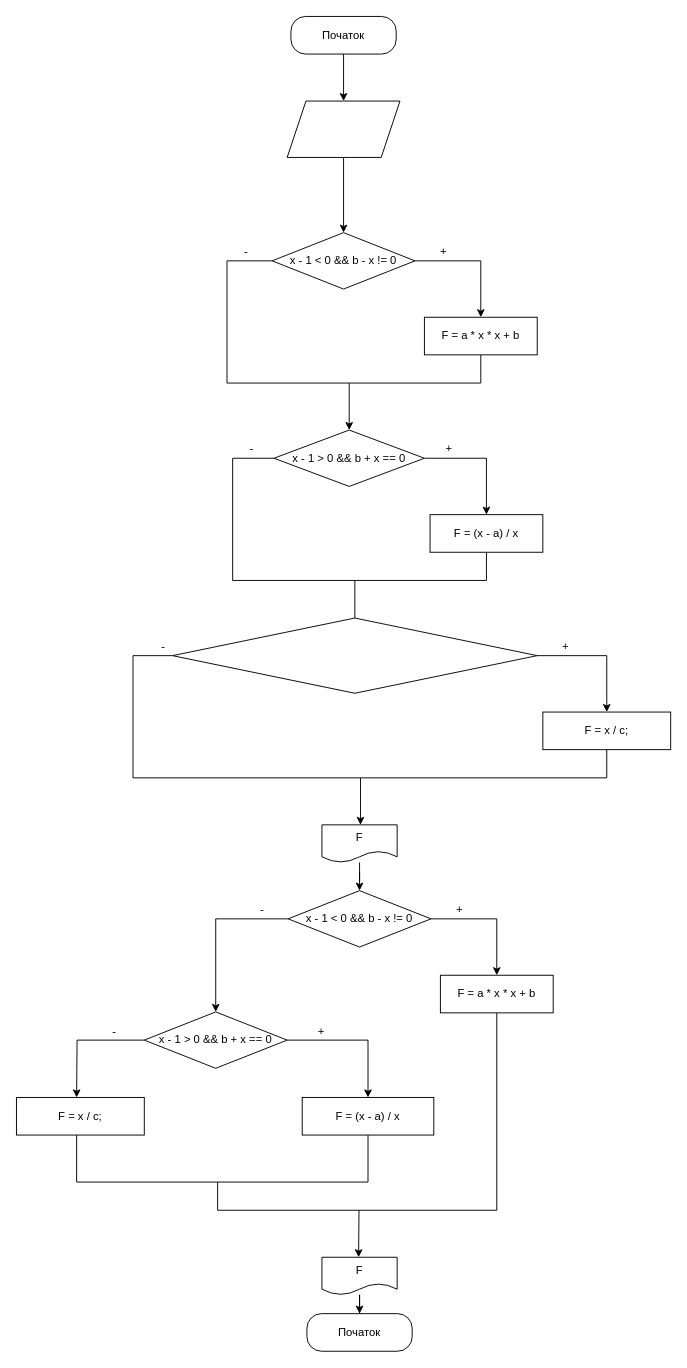
Image size: 687x1368. Some labels were removed from this diagram. The centre of each missing label's shape, as x and y in pixels:
"!(x - 1 < 0 && b - x != 0) && !(x - 1 > 0 && b + x == 0)" belongs at point 354,655.
"x, a, b, c, F" belongs at point 343,128.
